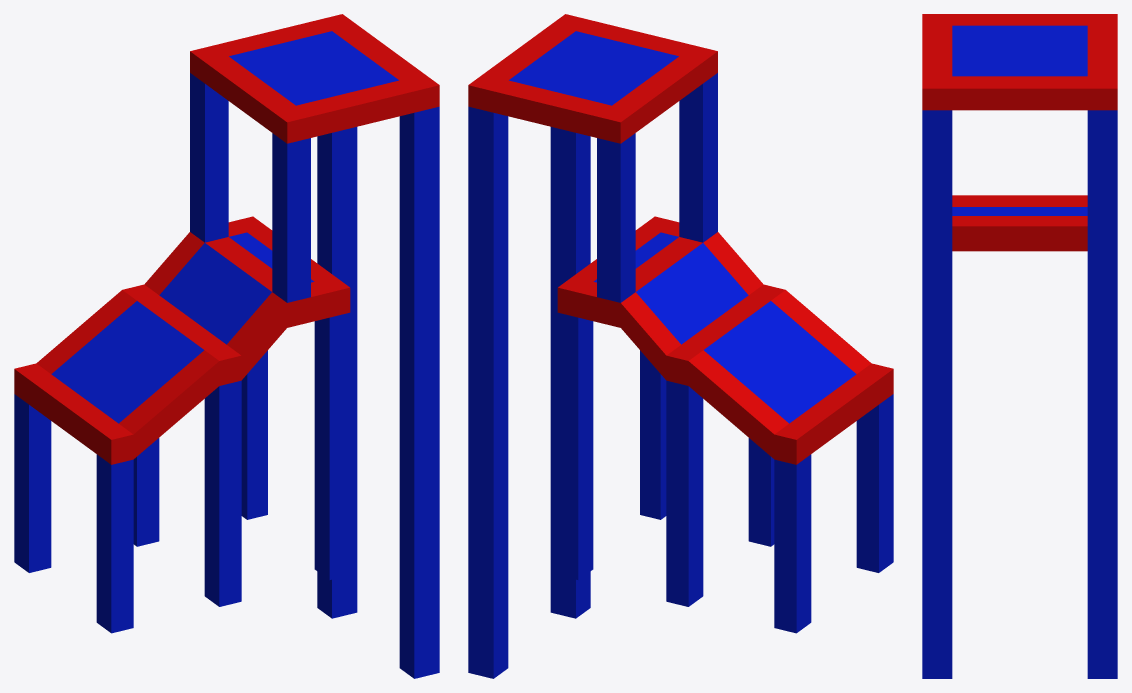
The model's file is PlateformeSol03.FBX.
3 renders of one model, left to right at view 1: azimuth 30°, elevation 25°; view 2: azimuth 150°, elevation 25°; view 3: azimuth 270°, elevation 25°, orthographic.
Parts seen in each view (by area): view 1: Niveau04_Plateforme02; view 2: Niveau04_Plateforme02; view 3: Niveau04_Plateforme02.
Part boxes in pixels (<box>): Niveau04_Plateforme02: <box>14,14,439,678</box>; Niveau04_Plateforme02: <box>468,14,893,678</box>; Niveau04_Plateforme02: <box>922,14,1117,678</box>.
Size of the model in its own units: 225 by 385 by 116.
